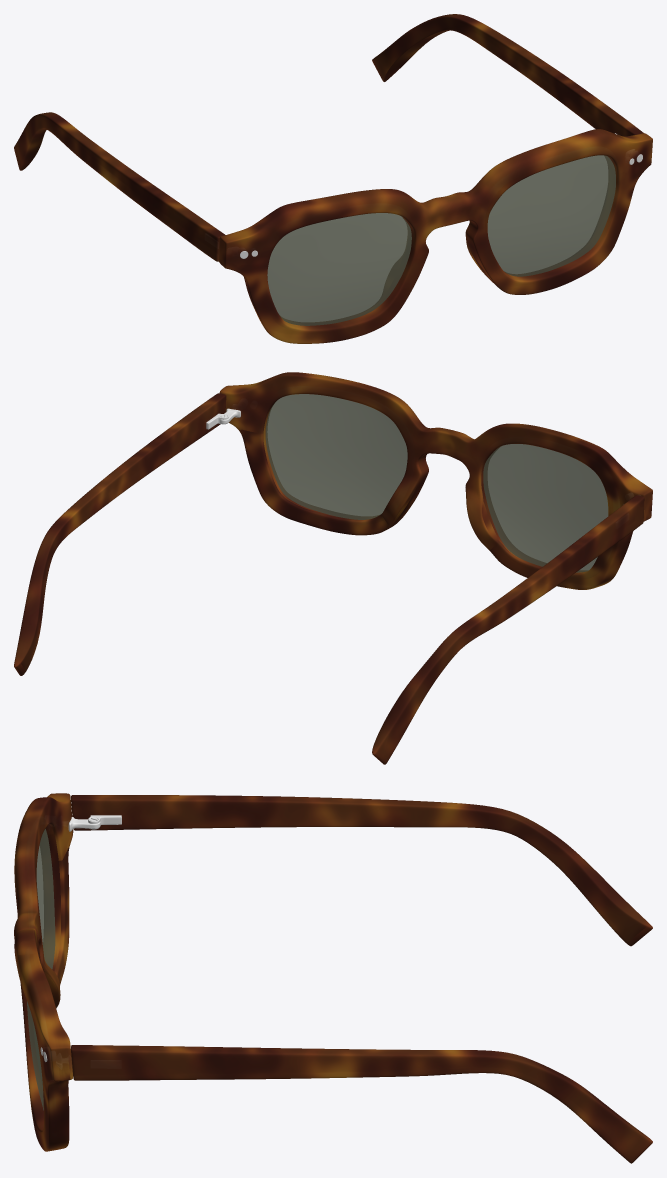
File: carson-sun-sbf-cinnamon-tortoise_wide.glb
The picture shows the model from 3 angles, top to bottom: view 1: azimuth 30°, elevation 25°; view 2: azimuth 150°, elevation 25°; view 3: azimuth 270°, elevation 25°; orthographic projection. The views are drawn at different scales.
Visible parts, largest first — view 1: lenses, face_front, left_temple, right_temple; view 2: lenses, face_front, right_temple, left_temple; view 3: left_temple, right_temple, face_front, lenses.
Part boxes in pixels (left/top/right/bottom): lenses: left=267, top=155, right=615, bottom=325; face_front: left=219, top=129, right=652, bottom=343; left_temple: left=372, top=14, right=643, bottom=136; right_temple: left=14, top=112, right=225, bottom=261; lenses: left=265, top=394, right=608, bottom=572; face_front: left=219, top=372, right=652, bottom=589; right_temple: left=372, top=495, right=644, bottom=764; left_temple: left=14, top=393, right=226, bottom=675; left_temple: left=71, top=1045, right=652, bottom=1163; right_temple: left=71, top=795, right=652, bottom=946; face_front: left=14, top=793, right=73, bottom=1151; lenses: left=27, top=829, right=55, bottom=1110.
Size of the model in its own units: 0.1418 by 0.0458 by 0.1482.
Materials: 5 (1 with a texture image).
